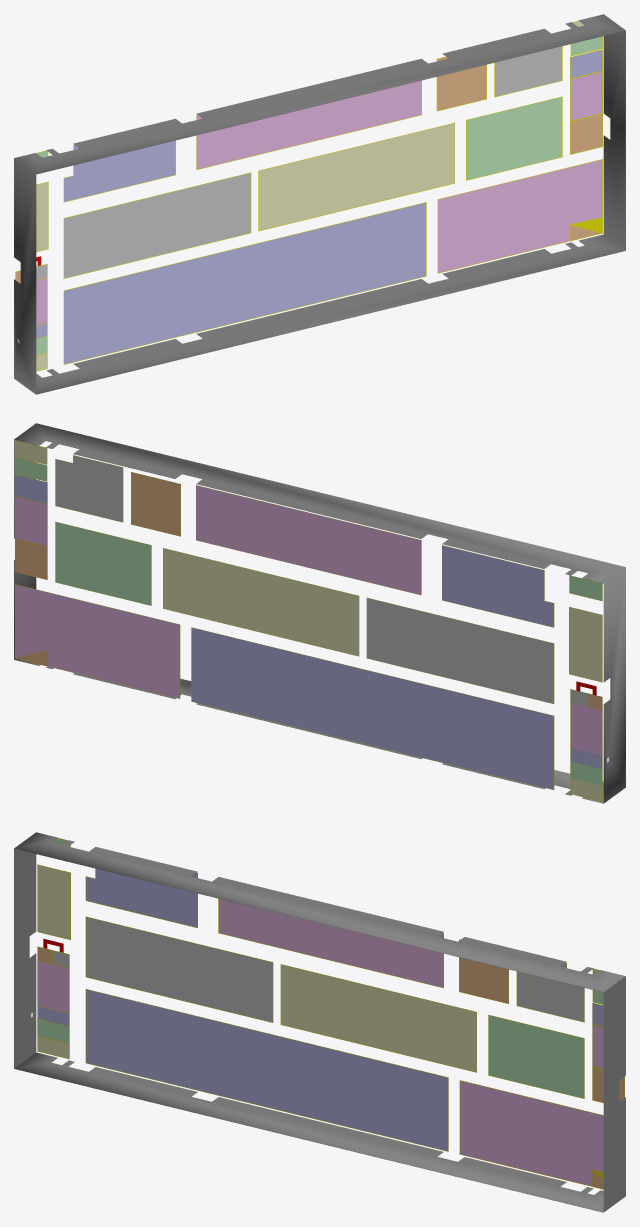
Rendered from 原始效果.fbx.
The picture shows the model from 3 angles, top to bottom: view 1: azimuth 30°, elevation 25°; view 2: azimuth 150°, elevation 25°; view 3: azimuth 330°, elevation 25°; orthographic projection.
Visible parts, largest first — view 1: Model, G_61_________; view 2: Model, G_61_________; view 3: Model, G_61_________.
Boxes of the visible parts, x1=… form: Model: x1=14, y1=14, x2=625, y2=394; G_61_________: x1=495, y1=46, x2=561, y2=96; Model: x1=14, y1=423, x2=625, y2=803; G_61_________: x1=55, y1=455, x2=122, y2=522; Model: x1=14, y1=832, x2=625, y2=1212; G_61_________: x1=517, y1=963, x2=584, y2=1021.
Bounding box in the file's own units: 153460 × 54790 × 10000.
